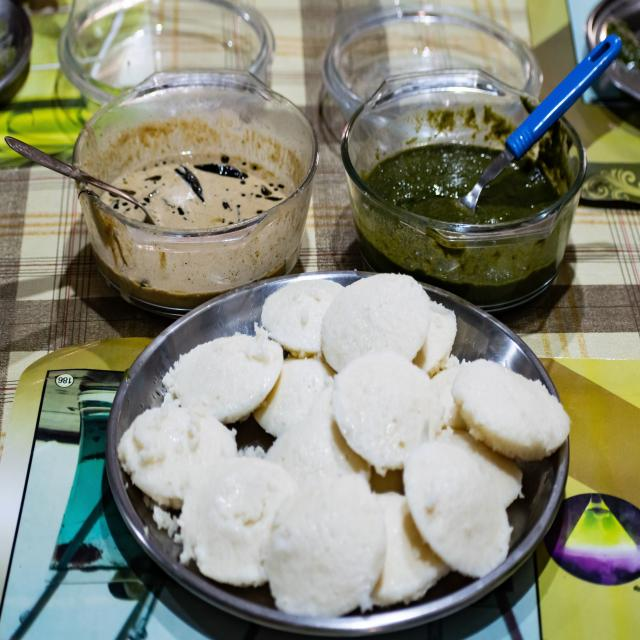idly: (267, 477, 390, 627), (411, 435, 520, 581), (182, 451, 296, 590), (118, 394, 237, 510), (320, 262, 440, 374), (453, 355, 572, 465), (324, 364, 438, 468), (168, 334, 276, 426), (377, 481, 445, 611), (255, 355, 333, 453), (258, 275, 338, 357), (268, 428, 366, 488), (326, 418, 376, 482), (421, 301, 462, 371)
